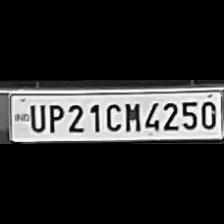0: (198, 98, 216, 130)
1: (86, 101, 102, 133)
2: (64, 100, 86, 134), (159, 99, 177, 131)
4: (142, 98, 160, 132)
5: (178, 98, 198, 130)
C: (102, 100, 122, 132)
M: (121, 99, 141, 133)
P: (44, 100, 64, 134)
U: (26, 101, 44, 133)
